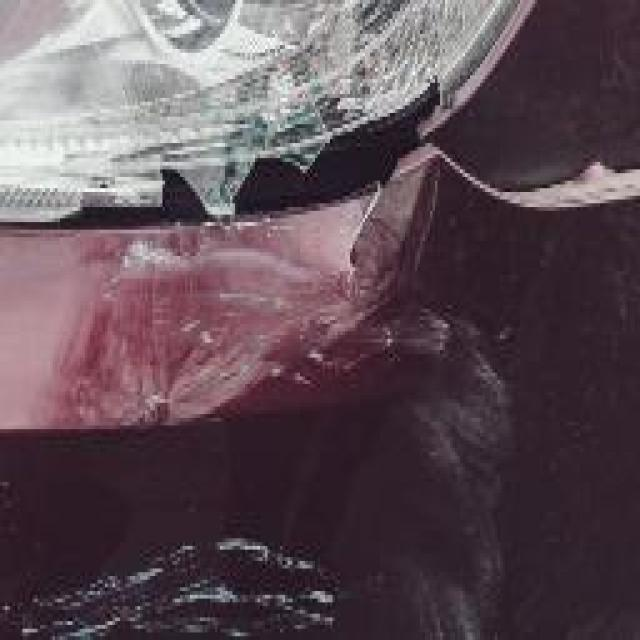Bumper: (0, 230, 640, 640)
Light: (0, 4, 640, 207)
